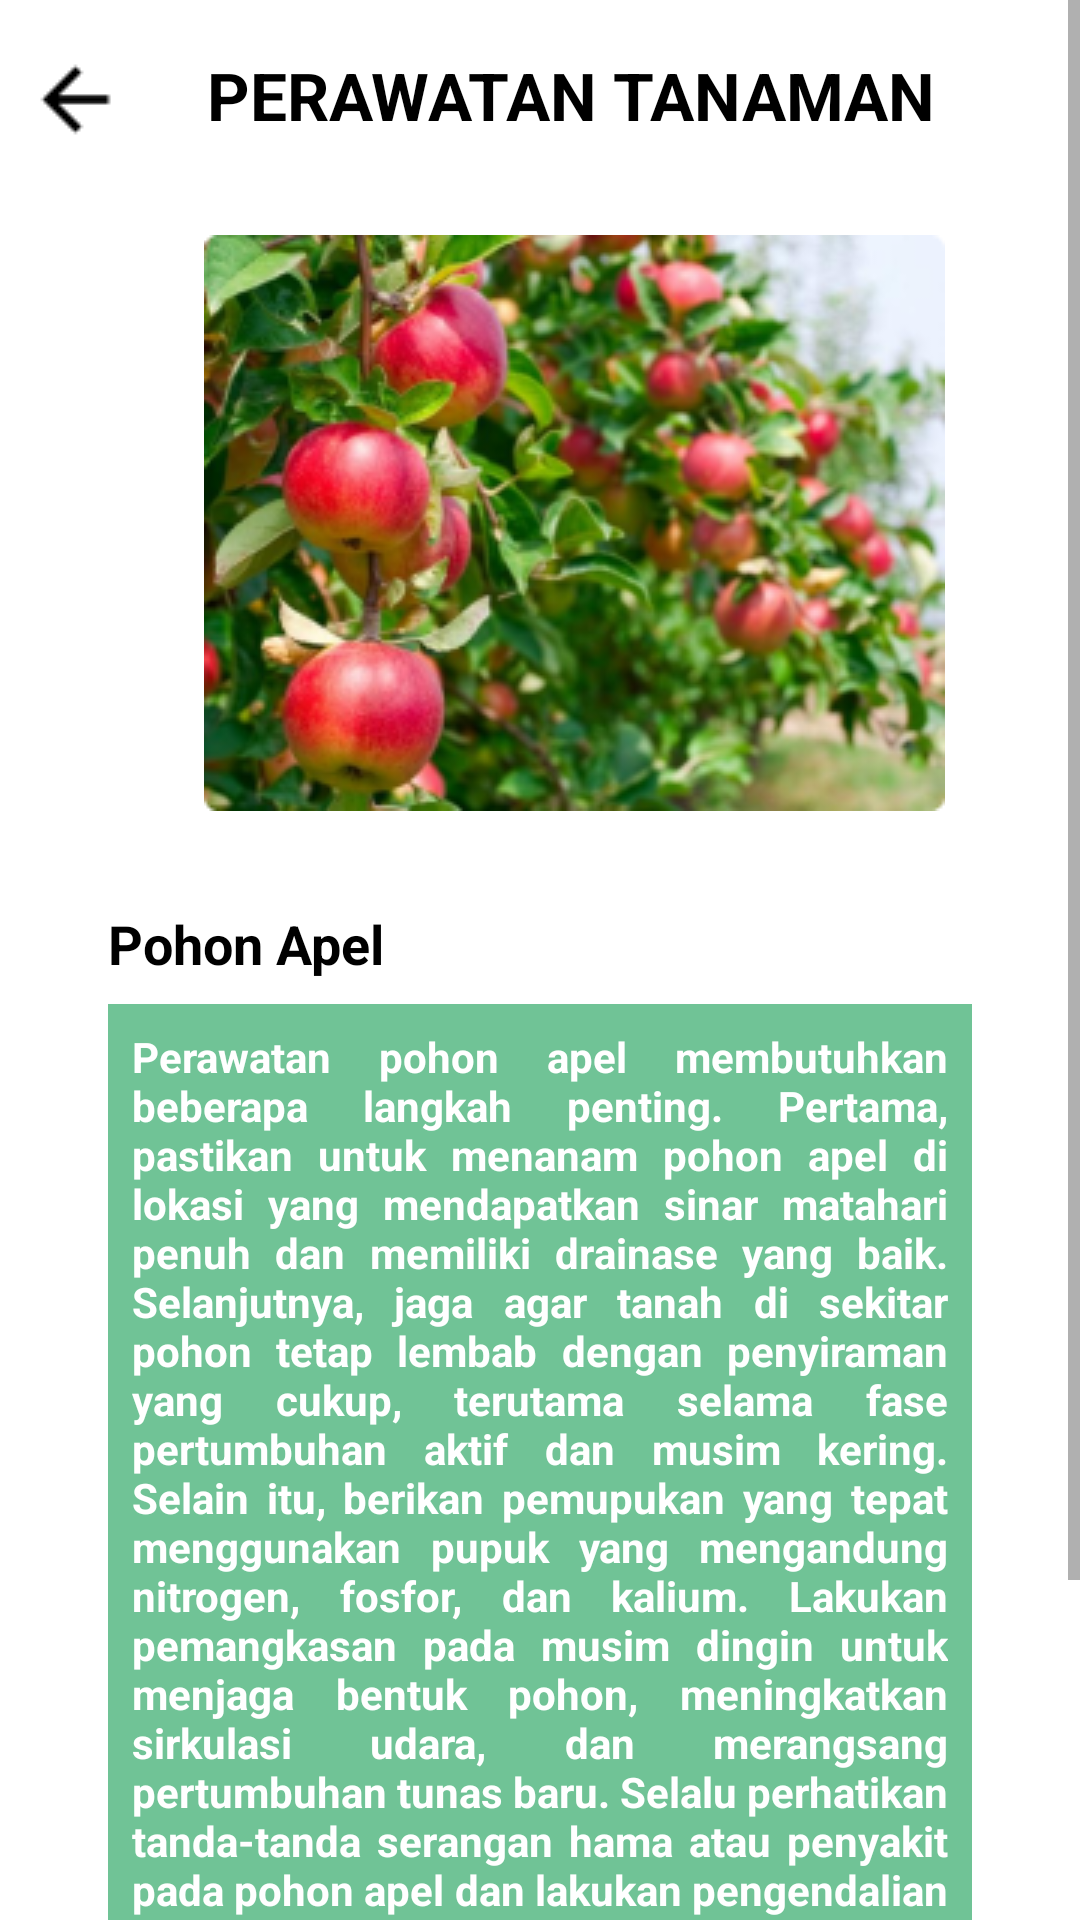

Icon click points for this 1080px×1920px phone screenshot, format (x,y):
arrow back: (76,99)
